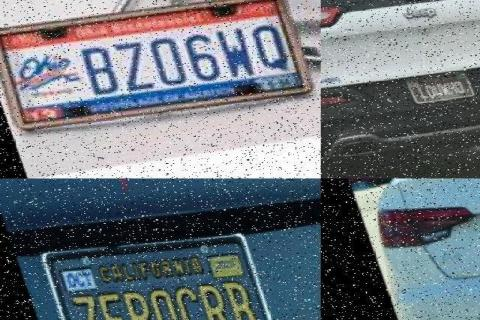LicensePlate: (0, 7, 293, 108), (30, 220, 286, 320), (398, 72, 469, 106)
